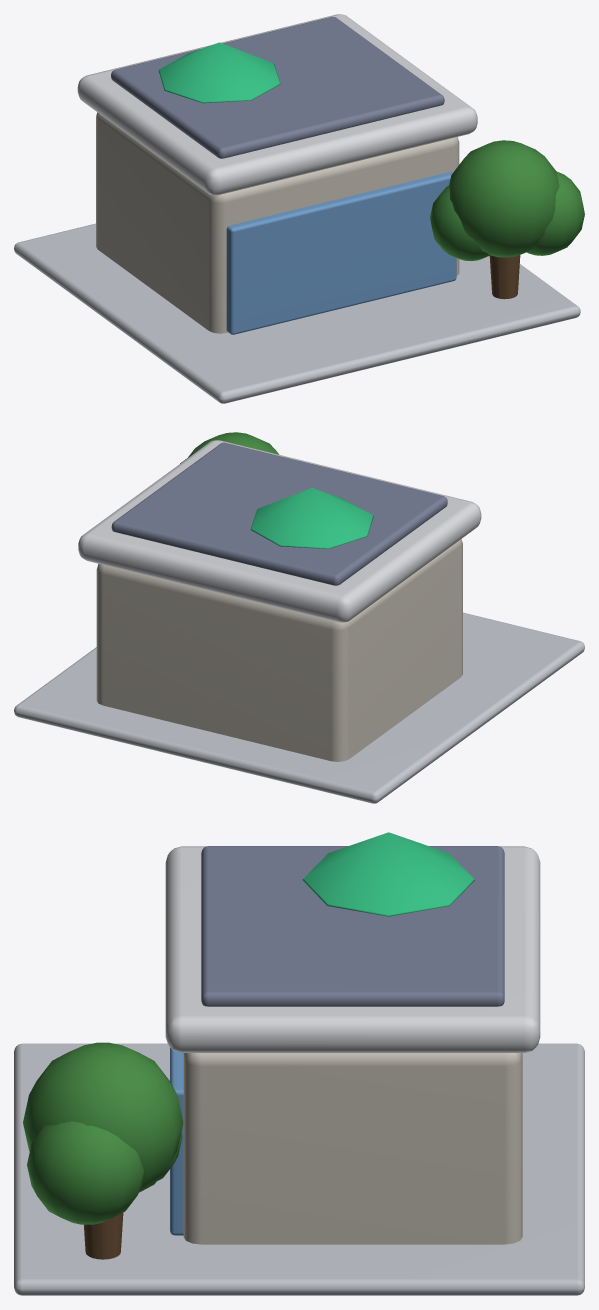
3 renders of one model, top to bottom at view 1: azimuth 30°, elevation 25°; view 2: azimuth 150°, elevation 25°; view 3: azimuth 270°, elevation 25°, orthographic. The views are drawn at different scales.
Parts seen in each view (by area): view 1: Cube; view 2: Cube; view 3: Cube.
Boxes of the visible parts, x1,y1,x2,y2 form: Cube: [14, 14, 584, 403]; Cube: [14, 432, 584, 803]; Cube: [14, 832, 584, 1295].
Bounding box in the file's own units: 0.6798 × 0.39 × 0.64.
